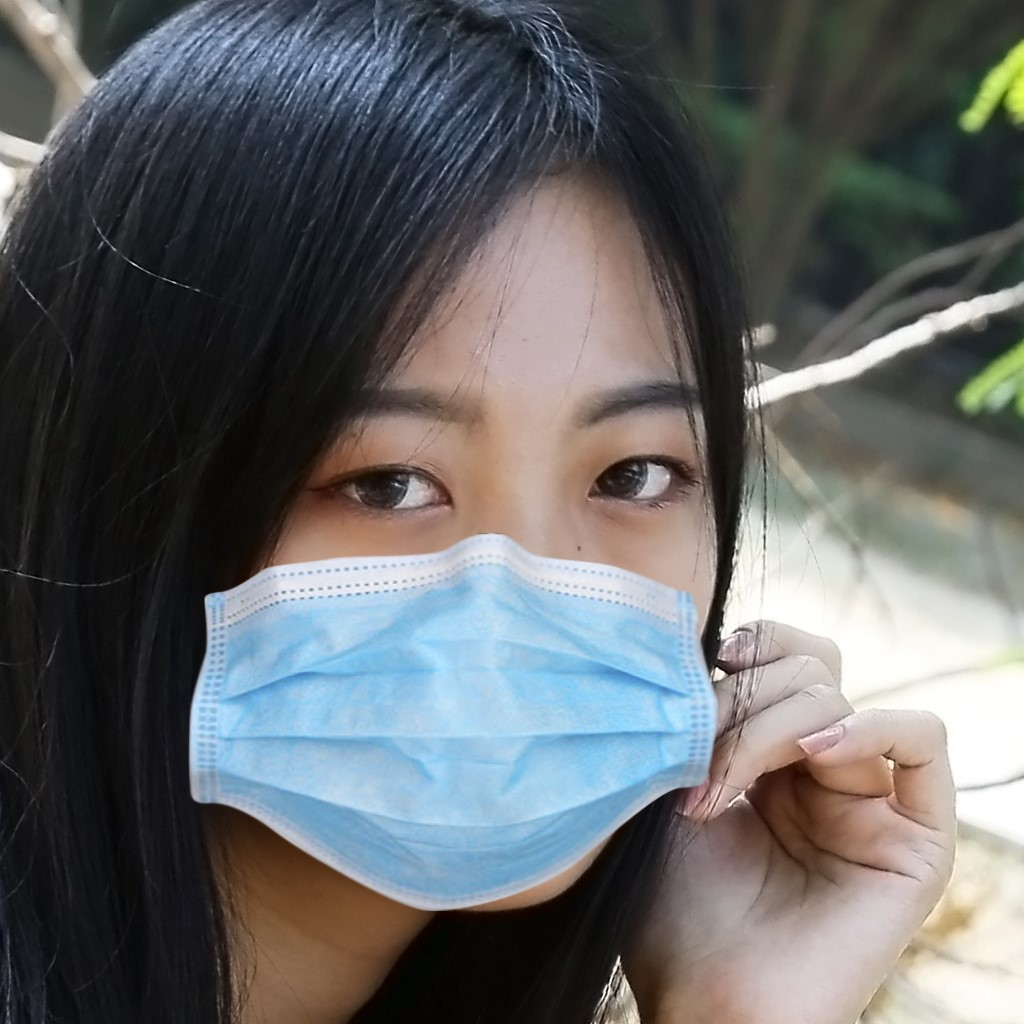con_mascara: (109, 28, 754, 935)
